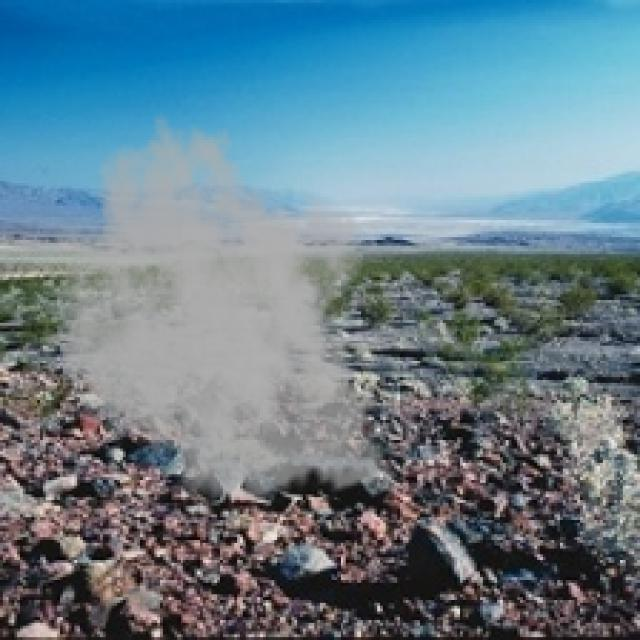smoke: (54, 112, 400, 514)
